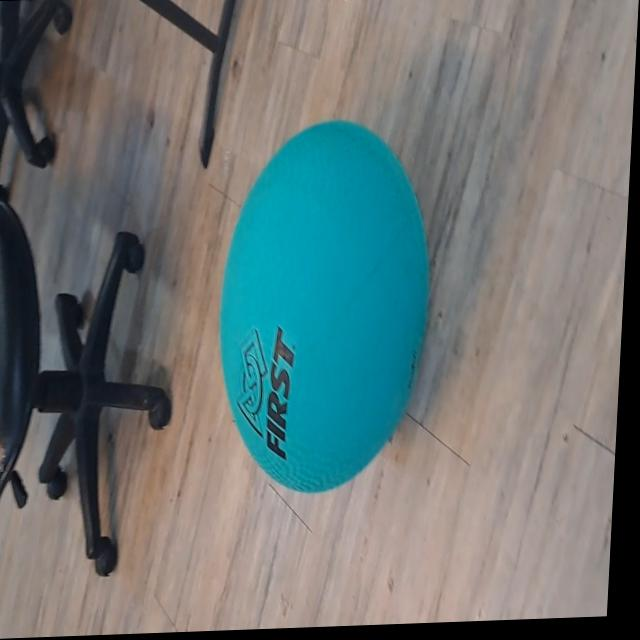ALGAE: (208, 114, 439, 499)
